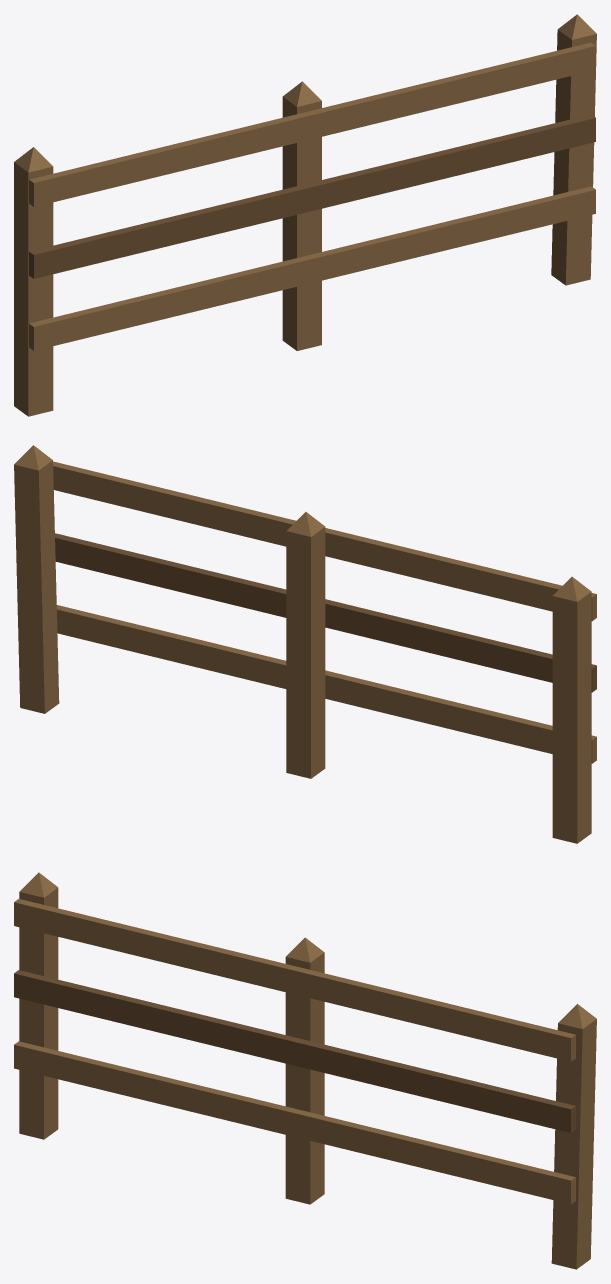
The model's file is fence.glb.
3 renders of one model, top to bottom at view 1: azimuth 30°, elevation 25°; view 2: azimuth 150°, elevation 25°; view 3: azimuth 330°, elevation 25°, orthographic.
Parts seen in each view (by area): view 1: Fence; view 2: Fence; view 3: Fence.
Part boxes in pixels (x1,y1,x2,y2): Fence: [14, 14, 596, 416]; Fence: [14, 445, 596, 843]; Fence: [14, 872, 596, 1269].
Size of the model in its own units: 2.73 by 1.2 by 0.165.
